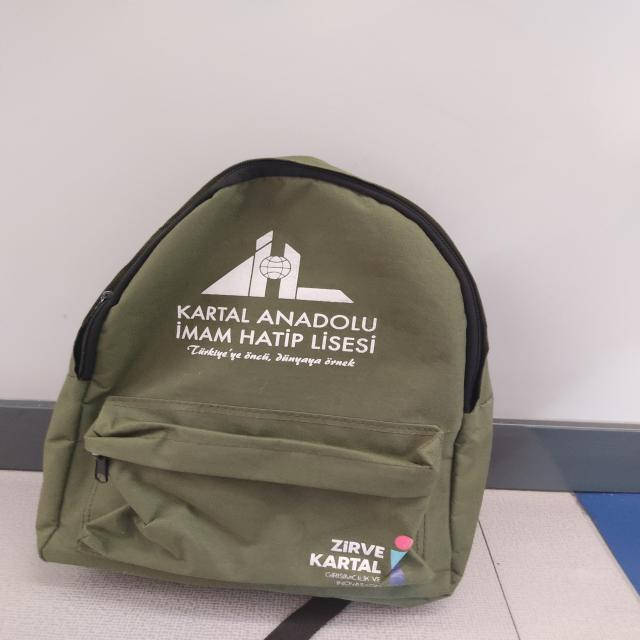bag: (35, 150, 542, 609)
